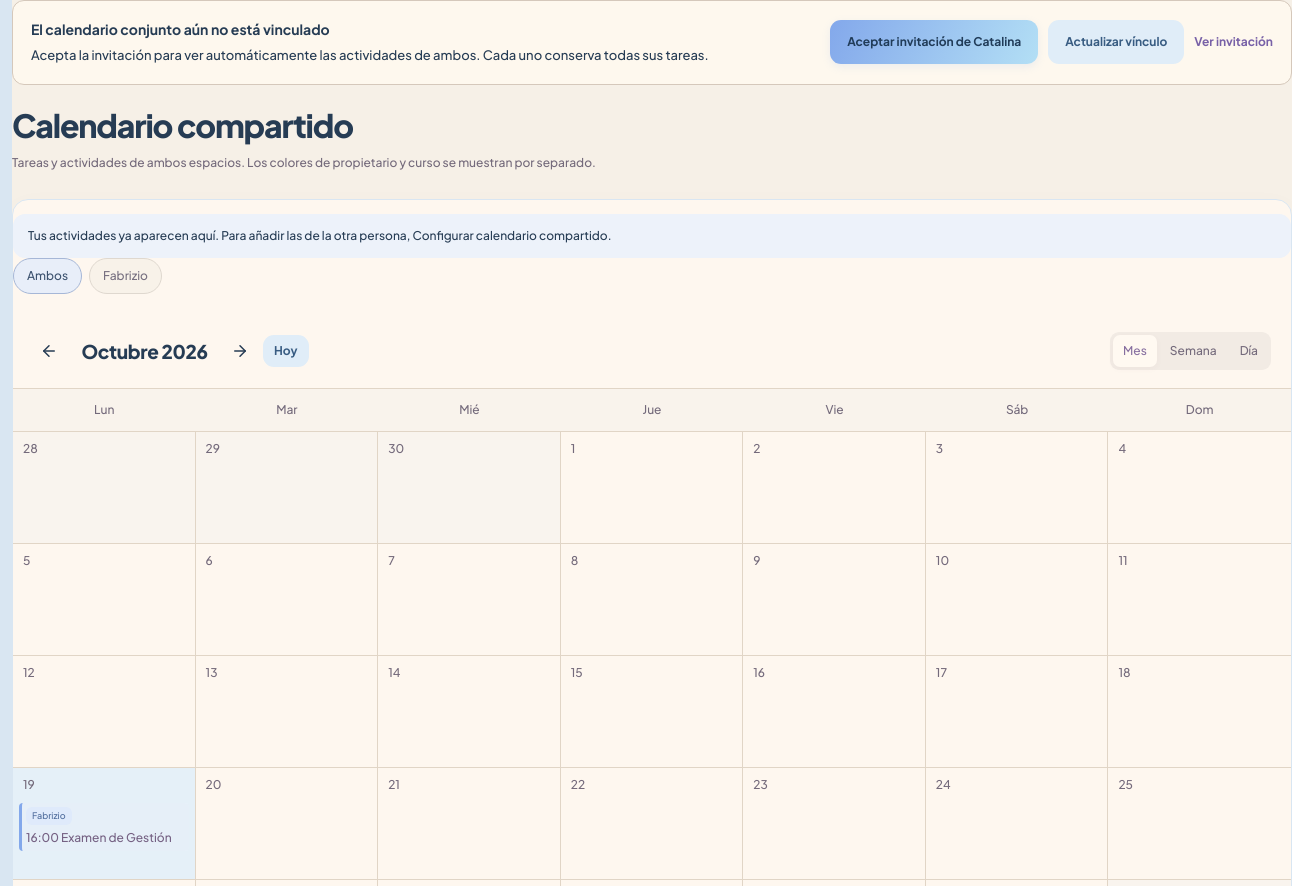
it: acepta desde el aviso principal, carga las actividades ajenas y conserva todas las propias
What coordinates should you click on to do the following:
click the button "Aceptar invitación de Catalina"
I would click on:
 (934, 42)
Its box is left=830, top=20, right=1038, bottom=64.
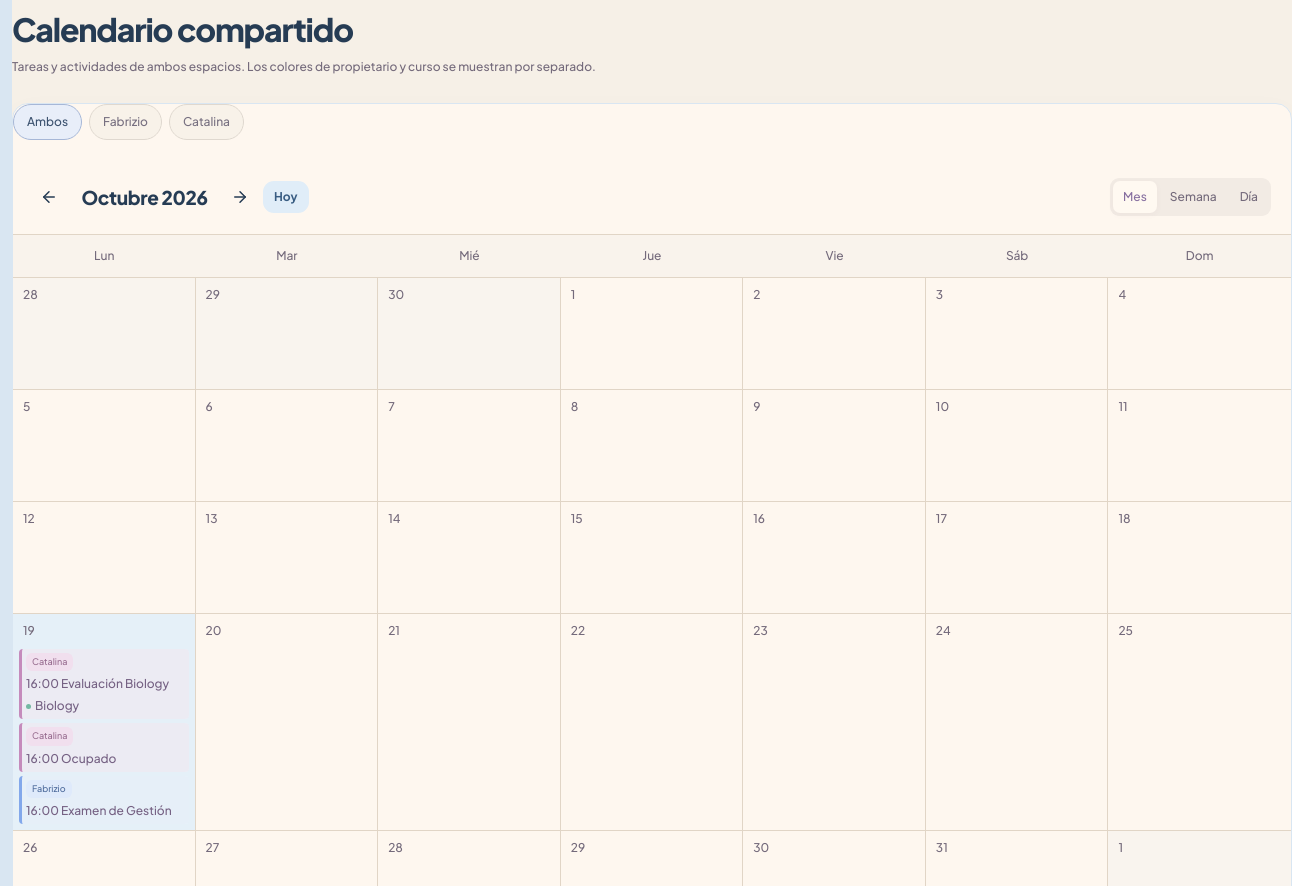
Now the button with aria-label "Evaluación Biology · Catalina · 16:00" is shown, box left=19, top=649, right=189, bottom=719
Now the text "El calendario conjunto aún no está vinculado" is gone
